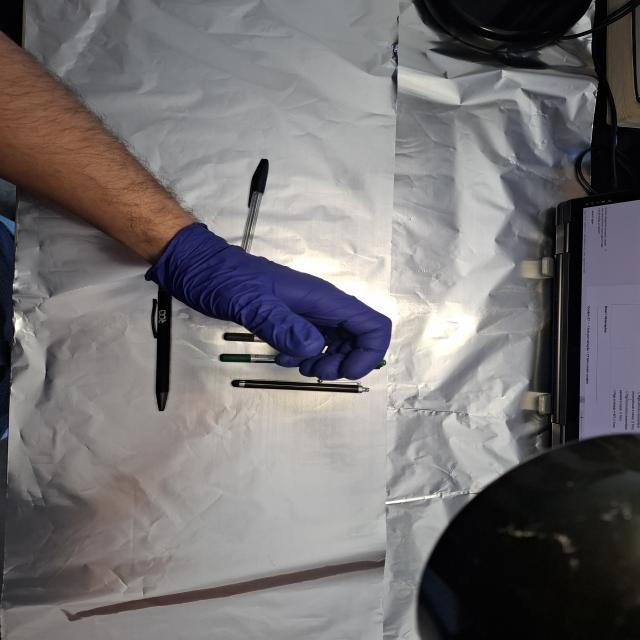glove_on: (143, 221, 395, 384)
